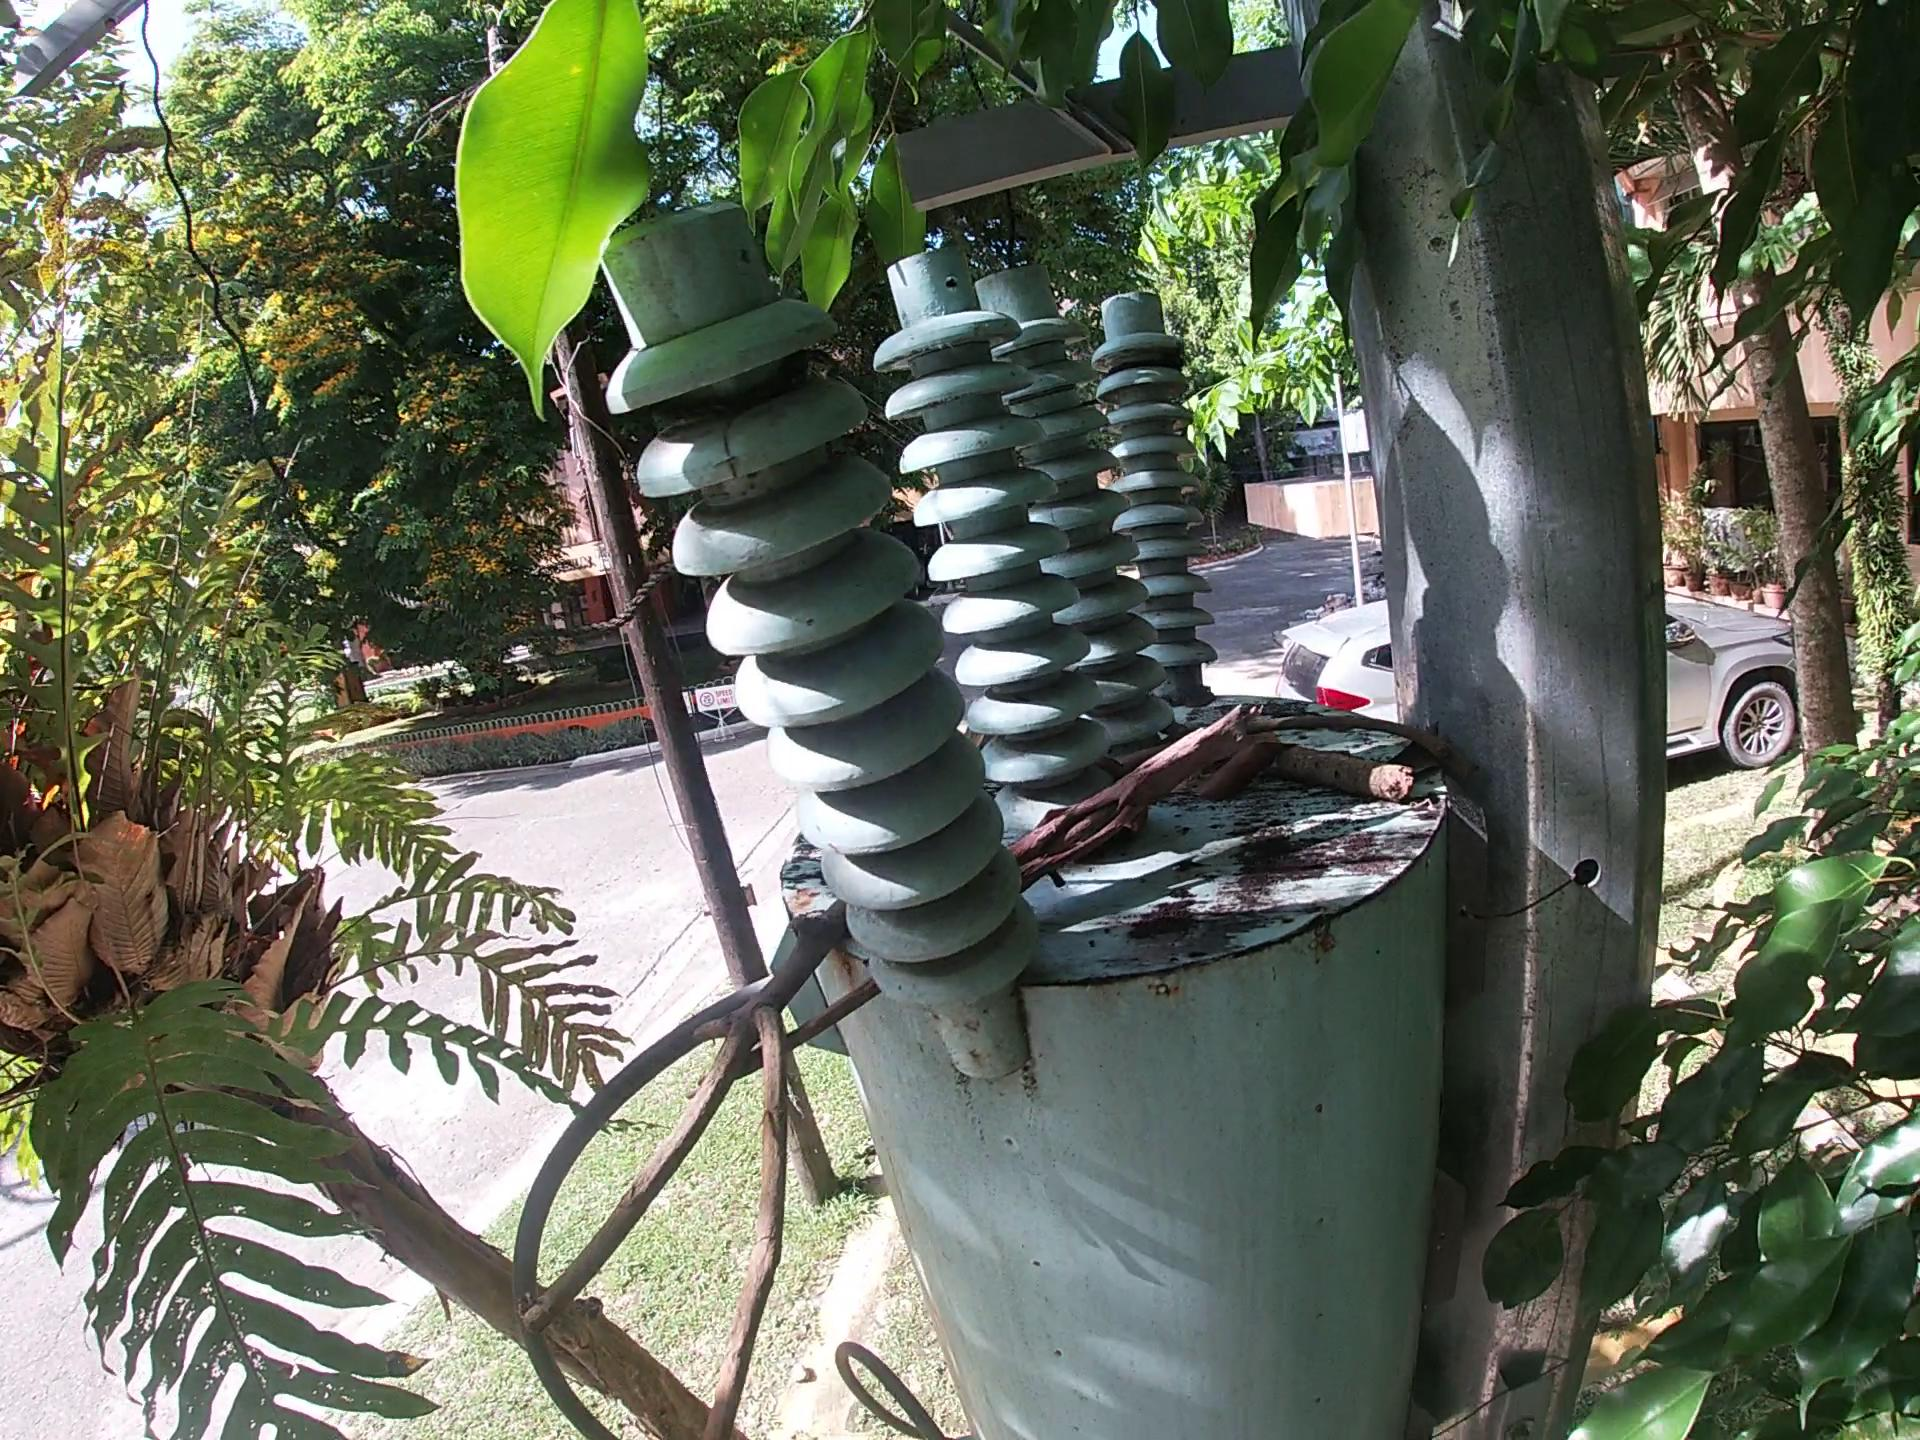leaf: (1190, 734, 1296, 811), (1383, 718, 1448, 776)
tree branch: (514, 895, 865, 1440), (1002, 705, 1253, 895), (686, 970, 887, 1103), (1250, 693, 1488, 784), (1256, 741, 1414, 805)
